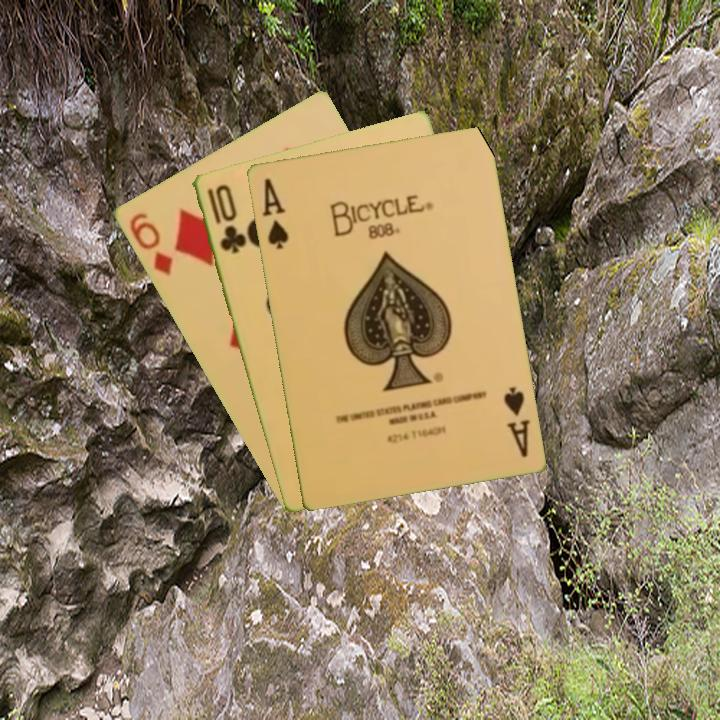10c: (203, 180, 248, 257)
6d: (125, 209, 176, 278)
As: (258, 174, 291, 252), (499, 382, 532, 460)
